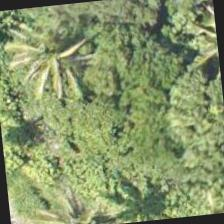Kelapa_Sawit: (2, 2, 101, 100)
